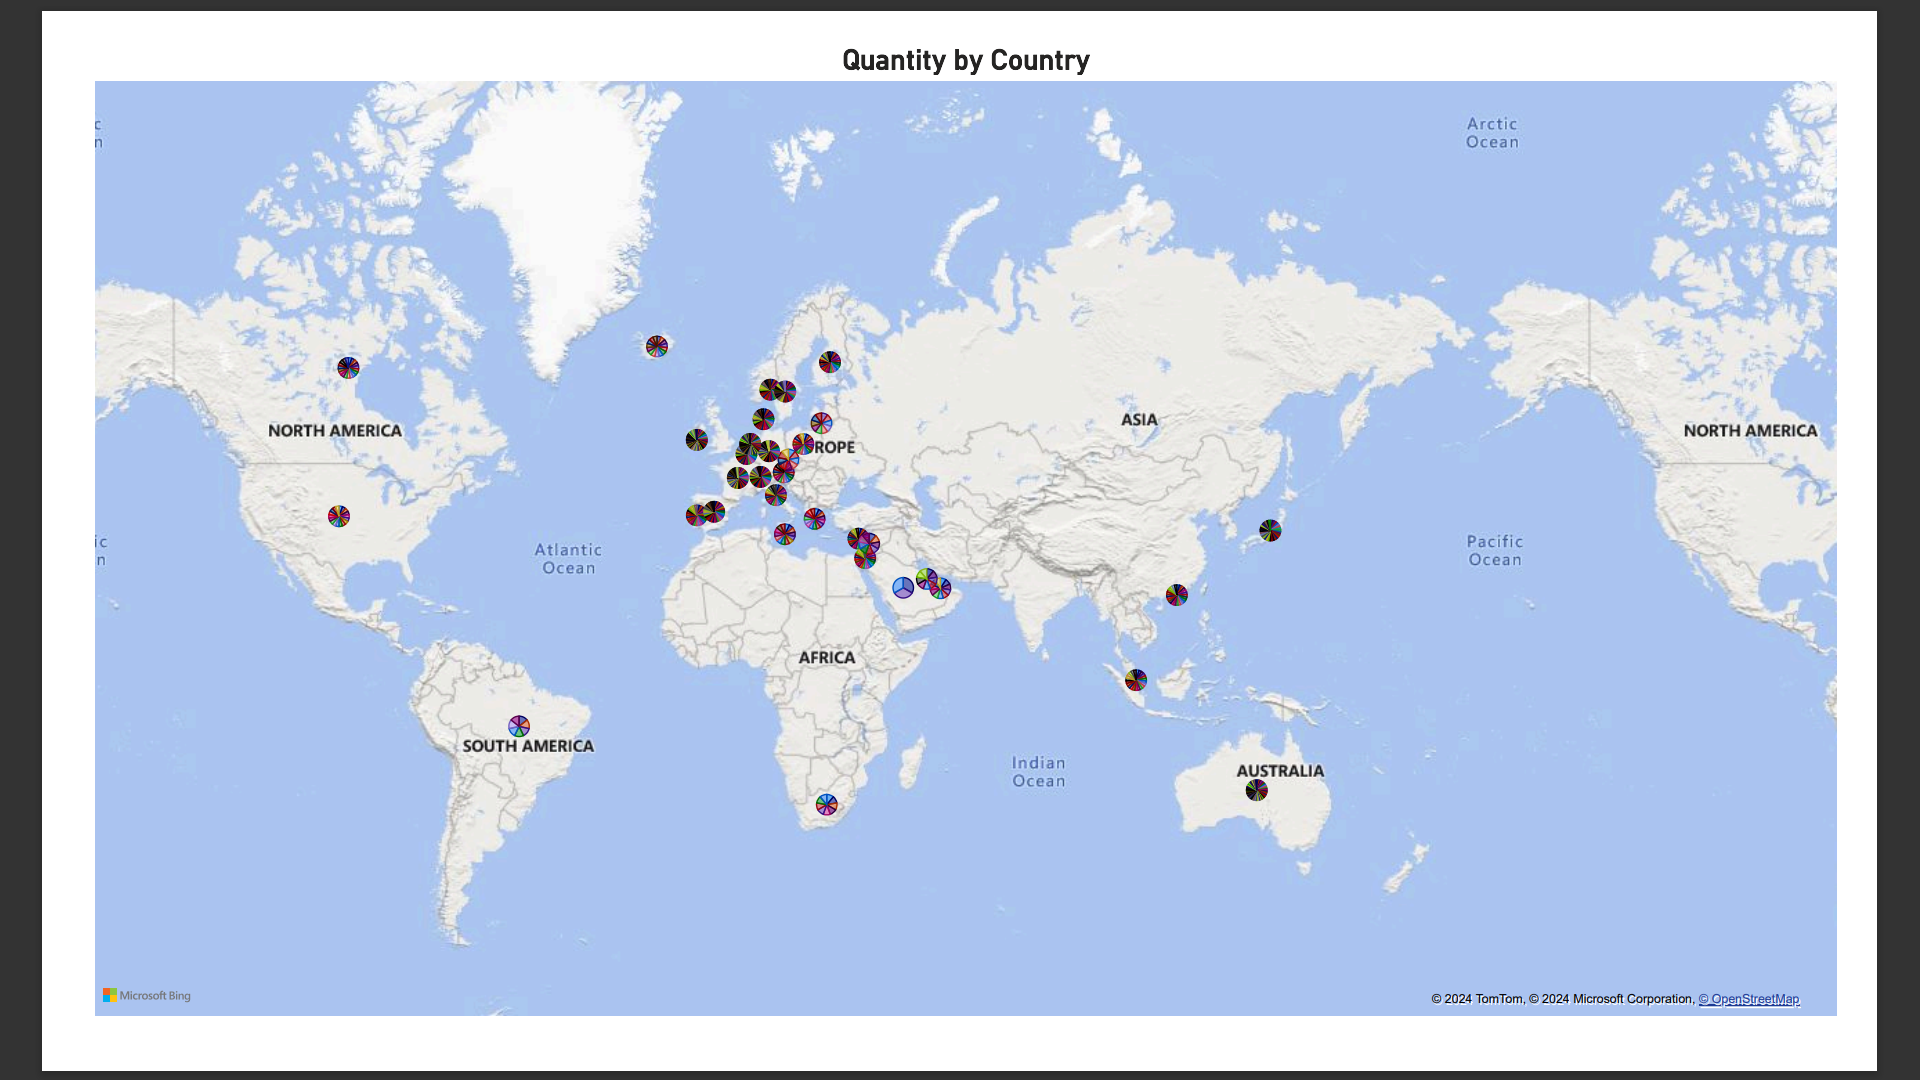

The page's visual inventory and layout, read from the dashboard file:
{"tool":"powerbi","page":{"name":"Question 4 ","canvas":[1280,720],"ordinal":3},"visuals":[{"type":"map","title":" Quantity by Country","fields":{"Category":["Online Retail.Country"],"Size":["CountNonNull(Online Retail.Quantity)"]},"box":[10,0,1270,708.8],"z":0}]}

Visuals, with their boxes in screenshot pixels (x1, y1, x2, y2), scaled from the page's 1280x720 canvas onto the 1920x1080 screenshot:
" Quantity by Country" map: rect(15, 0, 1919, 1063)
